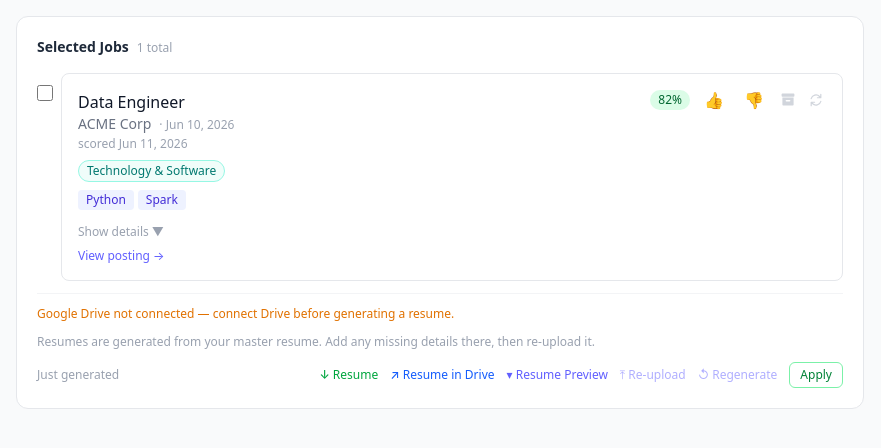
Test: SelectedJobsPanel — mark as applied › shows confirmation step on first click
Click the button with aria-label "mark job as applied": (816, 375) left=789, top=362, right=843, bottom=388
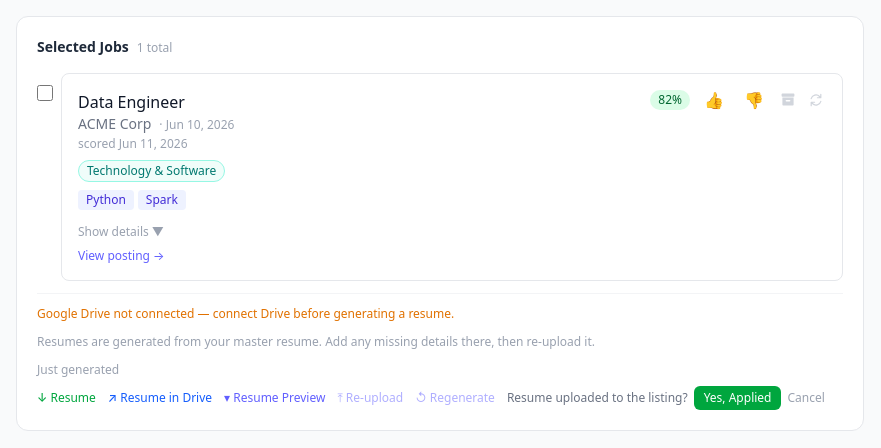
Result: the button with aria-label "confirm mark as applied" is shown at left=694, top=386, right=782, bottom=410
Result: the text "Resume uploaded to the listing?" is shown at left=507, top=390, right=688, bottom=406
